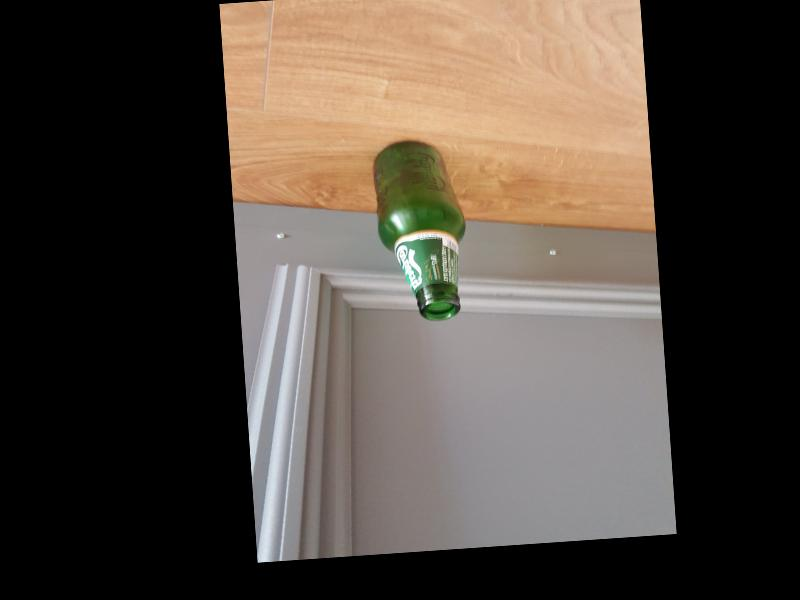Beer: (370, 136, 472, 323)
